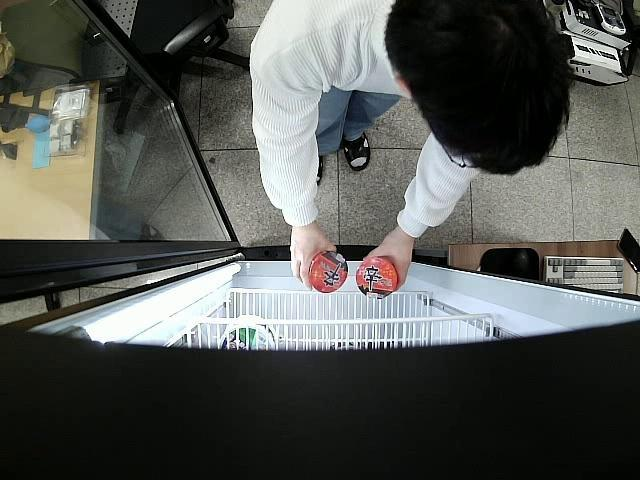02_shinRamen_S: (357, 258, 400, 299), (308, 250, 347, 292)
